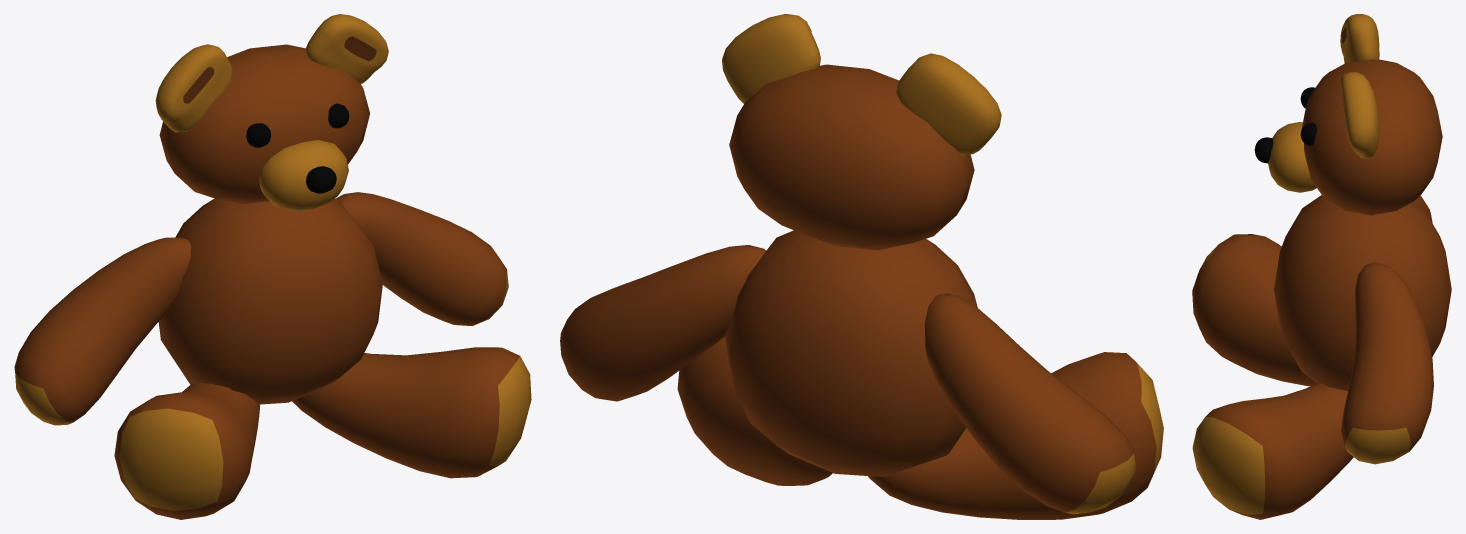
File: Bear.fbx
The picture shows the model from 3 angles, left to right: view 1: azimuth 30°, elevation 25°; view 2: azimuth 150°, elevation 25°; view 3: azimuth 270°, elevation 25°; orthographic projection. The views are drawn at different scales.
Parts seen in each view (by area): view 1: Cube.003, Cube.005, Cube, Cube.006, Cube.007, Cube.004, Cube.008, Cube.001, Cube.002; view 2: Cube.003, Cube, Cube.006, Cube.004, Cube.007, Cube.008, Cube.005; view 3: Cube.003, Cube.005, Cube, Cube.004, Cube.007, Cube.008, Cube.001, Cube.002.
Boxes of the visible parts, <box> form: Cube.003: <box>158,198,382,404</box>; Cube.005: <box>292,347,531,478</box>; Cube: <box>159,44,369,203</box>; Cube.006: <box>14,237,191,425</box>; Cube.007: <box>114,382,259,519</box>; Cube.004: <box>336,192,508,325</box>; Cube.008: <box>155,14,388,132</box>; Cube.001: <box>258,140,348,211</box>; Cube.002: <box>306,166,336,193</box>; Cube.003: <box>725,230,977,476</box>; Cube: <box>729,64,974,250</box>; Cube.006: <box>924,293,1135,514</box>; Cube.004: <box>560,245,766,401</box>; Cube.007: <box>868,352,1163,519</box>; Cube.008: <box>722,14,1001,155</box>; Cube.005: <box>677,336,832,485</box>; Cube.003: <box>1274,195,1451,391</box>; Cube.005: <box>1192,383,1353,519</box>; Cube: <box>1302,59,1442,215</box>; Cube.004: <box>1341,262,1433,464</box>; Cube.007: <box>1192,234,1316,386</box>; Cube.008: <box>1340,14,1379,159</box>; Cube.001: <box>1268,122,1316,192</box>; Cube.002: <box>1254,137,1273,163</box>.
Size of the model in its own units: 695 by 603 by 350.
